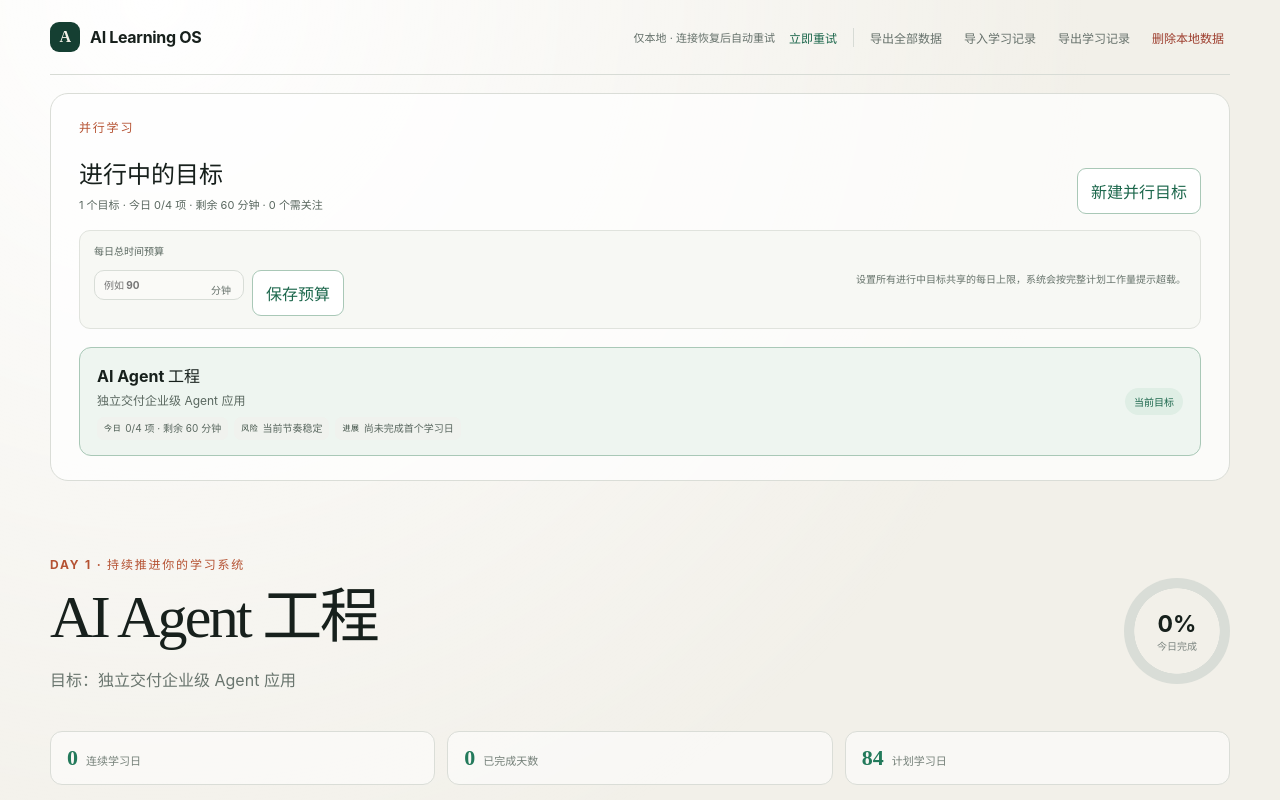
Test: learning data controls › lets the learner retry account discovery immediately
Expected: the text "仅本地 · 连接恢复后自动重试" is shown, [634,29,775,45]
What coordinates should you click on to do the following:
click the button "立即重试"
I would click on:
 (813, 37)
Its box is [783,28,843,46].
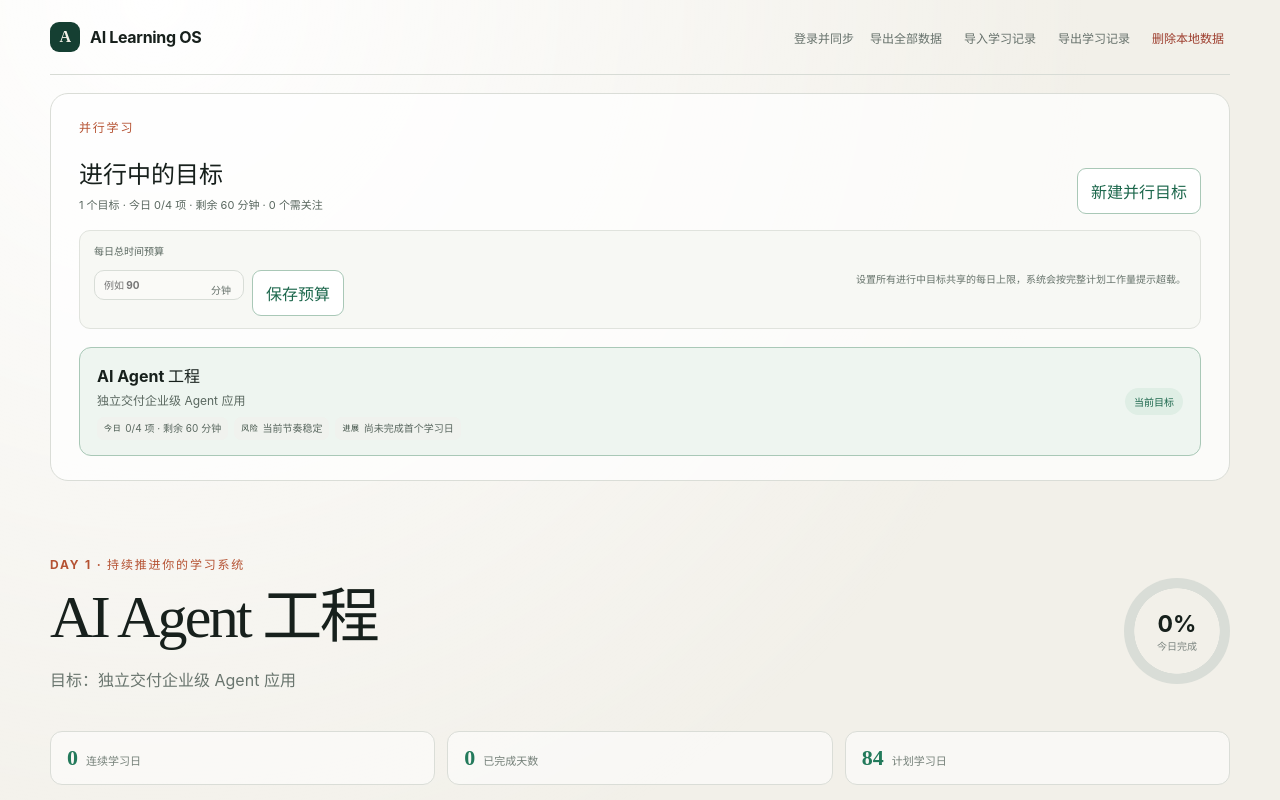
Now the link "登录并同步" is shown, box [794,28,854,46]
